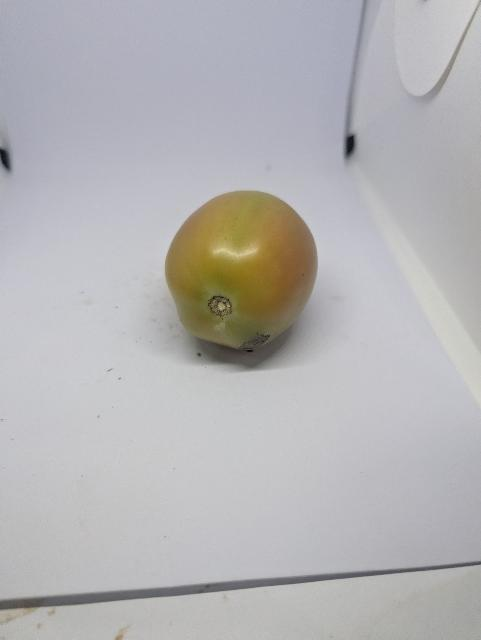breaker: (165, 191, 318, 351)
